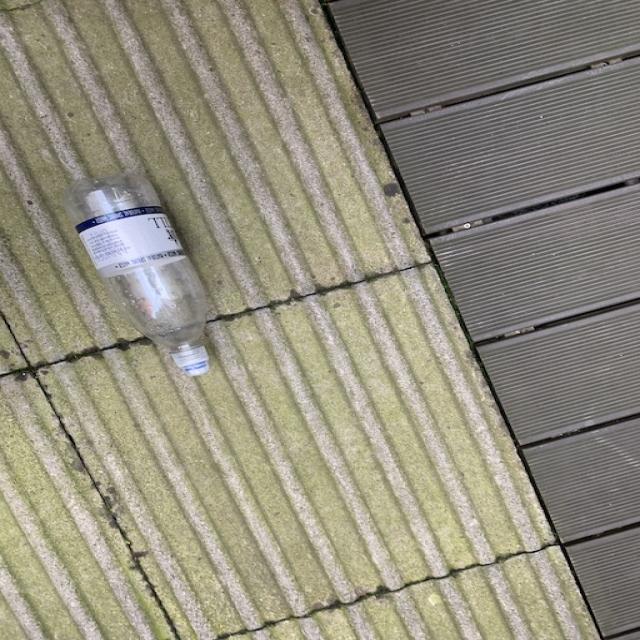Waste: (64, 173, 209, 377)
